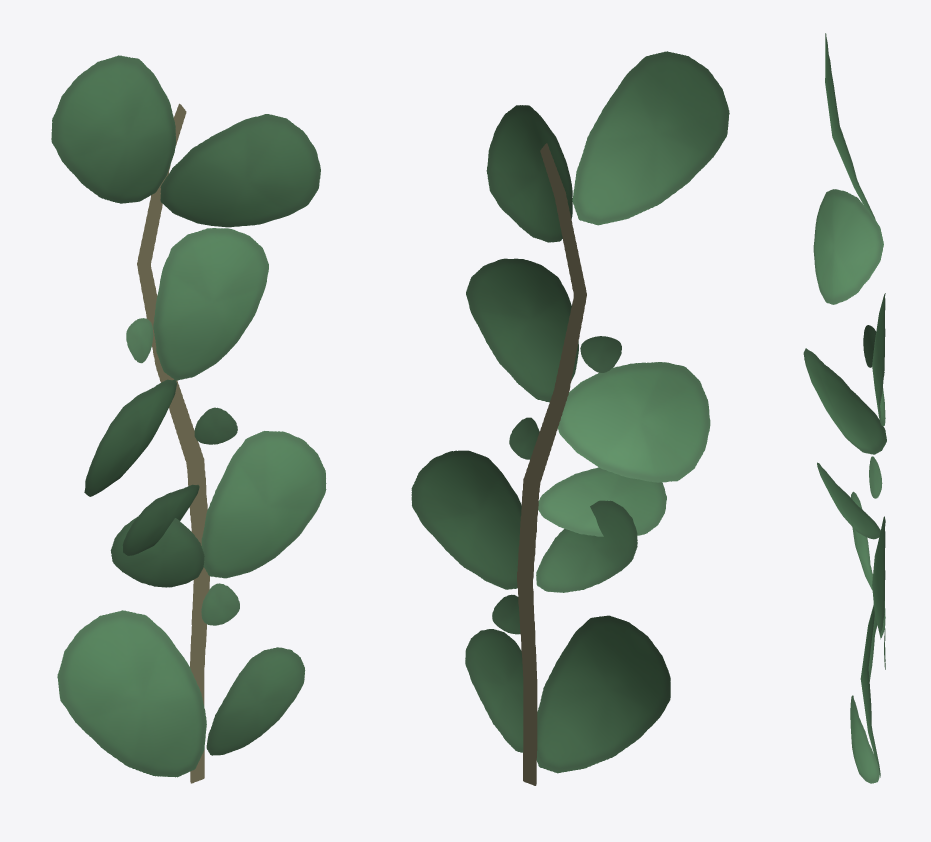
The model's file is Tige_plante_sanctu1.fbx.
The picture shows the model from 3 angles, left to right: view 1: azimuth 30°, elevation 25°; view 2: azimuth 150°, elevation 25°; view 3: azimuth 270°, elevation 25°; orthographic projection. The views are drawn at different scales.
Parts seen in each view (by area): view 1: Tige_plante_sanctu1; view 2: Tige_plante_sanctu1; view 3: Tige_plante_sanctu1.
Boxes of the visible parts, x1,y1,x2,y2 form: Tige_plante_sanctu1: [51, 55, 326, 783]; Tige_plante_sanctu1: [411, 51, 729, 785]; Tige_plante_sanctu1: [803, 33, 886, 783].
Bounding box in the file's own units: 5.38 × 11.72 × 1.73.
Materials: 1 (1 with a texture image).
